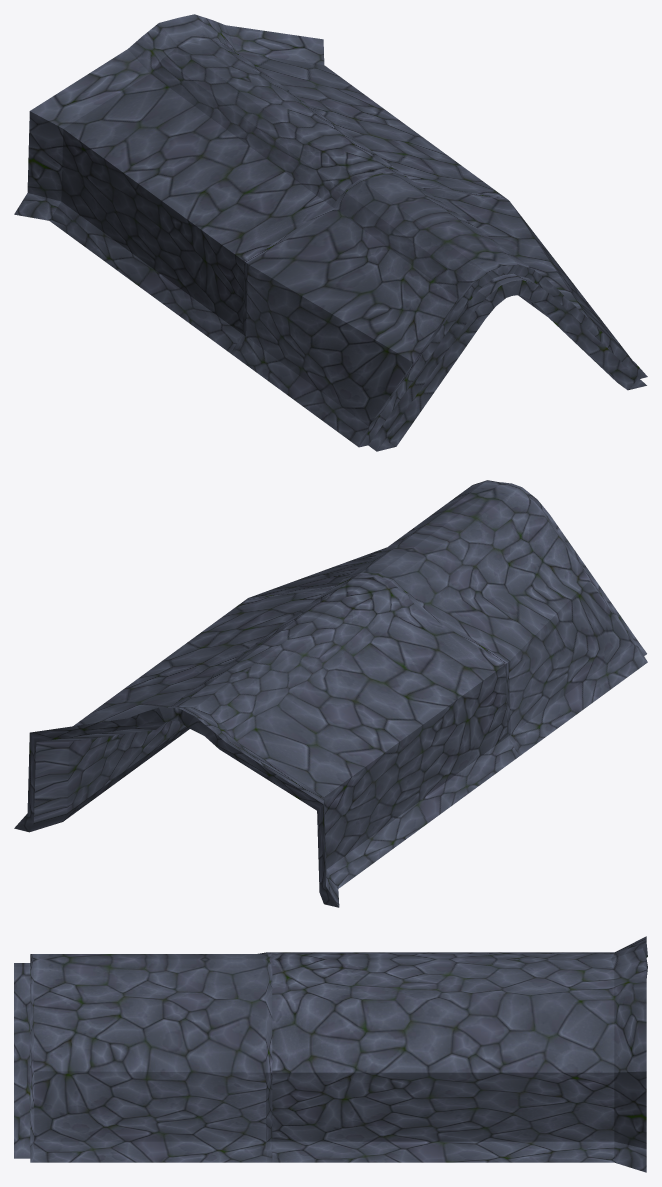
Rendered from atelier.fbx.
The picture shows the model from 3 angles, top to bottom: view 1: azimuth 30°, elevation 25°; view 2: azimuth 150°, elevation 25°; view 3: azimuth 270°, elevation 25°; orthographic projection. The views are drawn at different scales.
Visible parts, largest first — view 1: Object004; view 2: Object004; view 3: Object004.
Part boxes in pixels (<box>): Object004: <box>14,14,647,451</box>; Object004: <box>14,480,647,907</box>; Object004: <box>14,936,647,1172</box>.
Bounding box in the file's own units: 1747 × 814 × 3125.
1 material, 1 textured.
